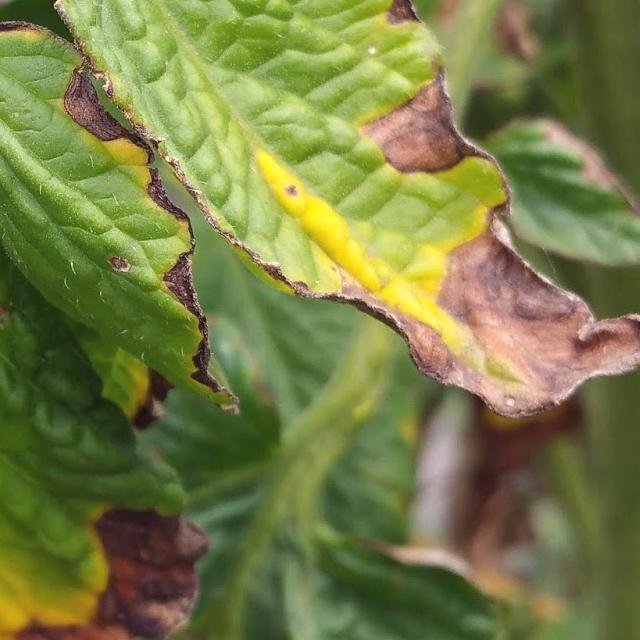Tomato leaf bacterial spot: (0, 0, 613, 437), (0, 0, 198, 640)
